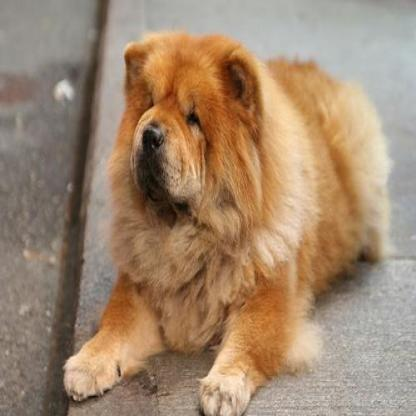chow: (60, 28, 393, 414)
